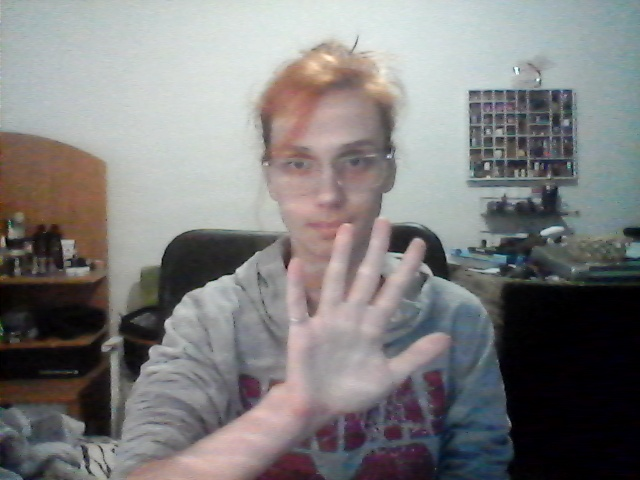ahoj: (280, 213, 453, 418)
